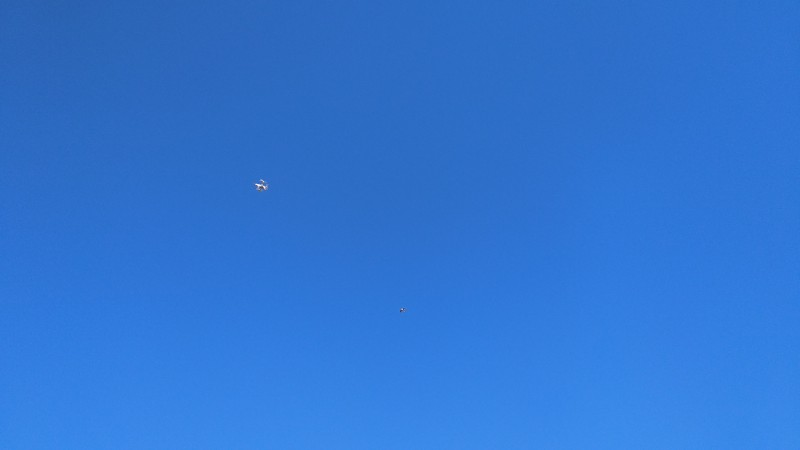drone: (253, 177, 271, 193)
